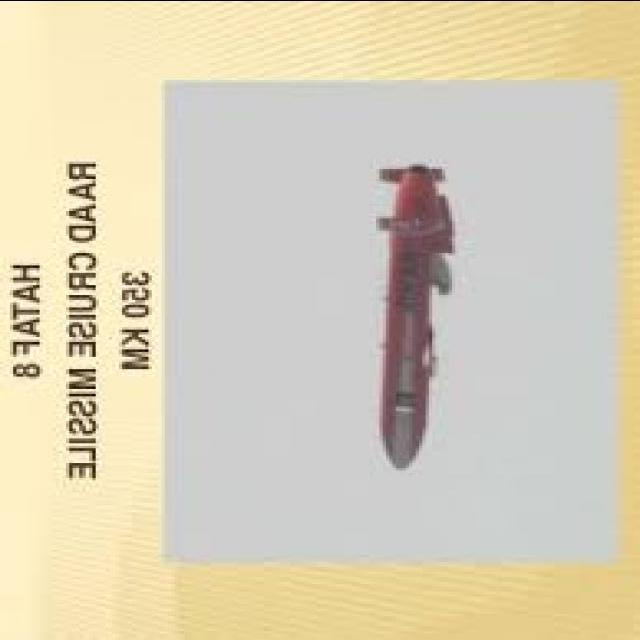Missile: (375, 145, 467, 477)
